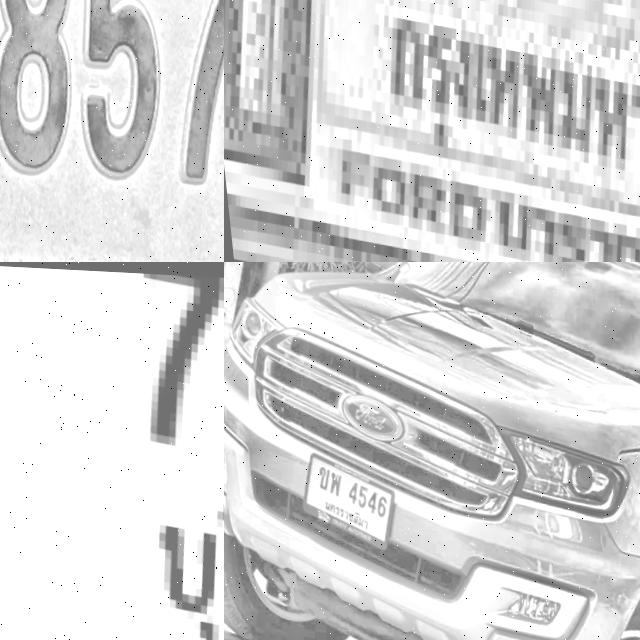license-plate: (224, 0, 640, 262), (0, 262, 224, 640), (0, 0, 224, 262), (285, 443, 400, 555)
